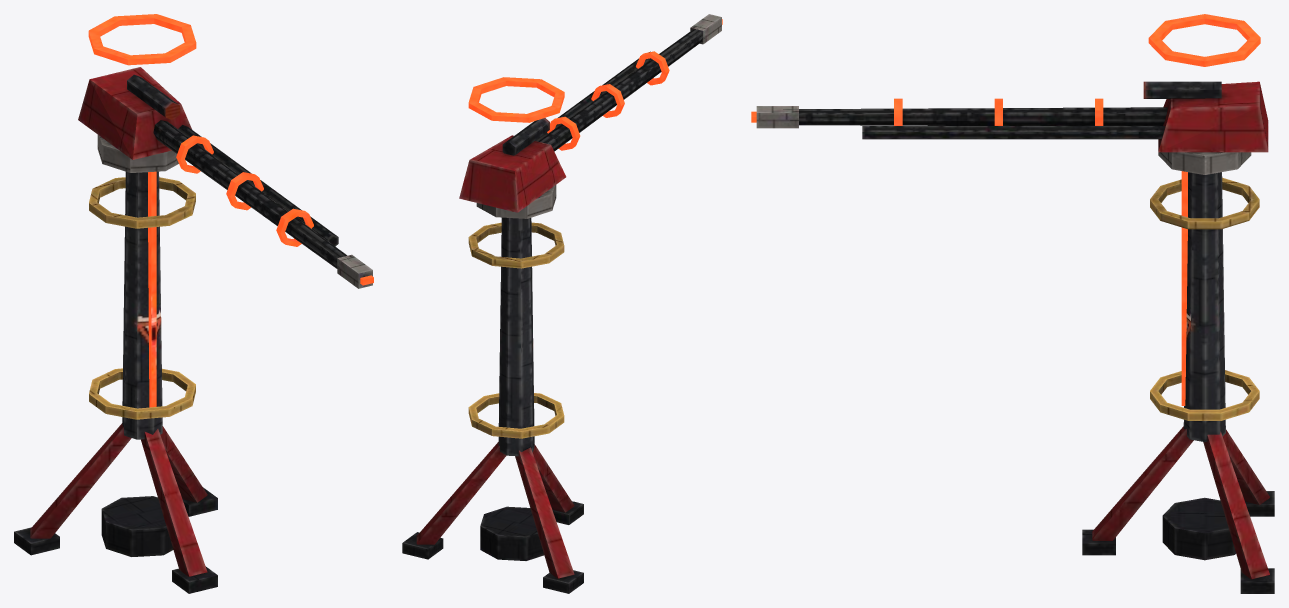
The model's file is u_spire4_e.glb.
3 views of the same model, side by side, from view 1: azimuth 30°, elevation 25°; view 2: azimuth 150°, elevation 25°; view 3: azimuth 270°, elevation 25° (orthographic). The views are drawn at different scales.
Parts seen in each view (by area): view 1: u_spire4_e; view 2: u_spire4_e; view 3: u_spire4_e.
Part boxes in pixels (left/top/right/bottom): u_spire4_e: left=14, top=14, right=373, bottom=593; u_spire4_e: left=402, top=14, right=722, bottom=593; u_spire4_e: left=751, top=14, right=1274, bottom=593.
Bounding box in the file's own units: 1.25 × 3.25 × 3.02.
1 material, 1 textured.
